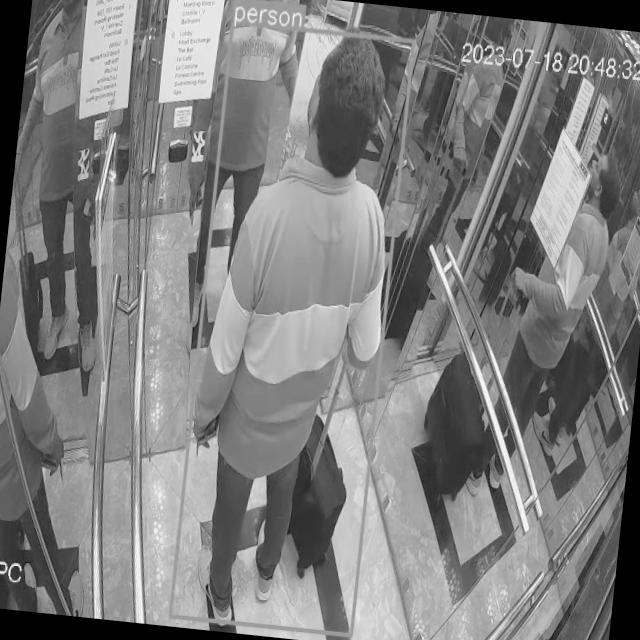person: (177, 15, 420, 640), (463, 153, 631, 532), (0, 0, 135, 385), (186, 0, 323, 332), (0, 237, 115, 614)
